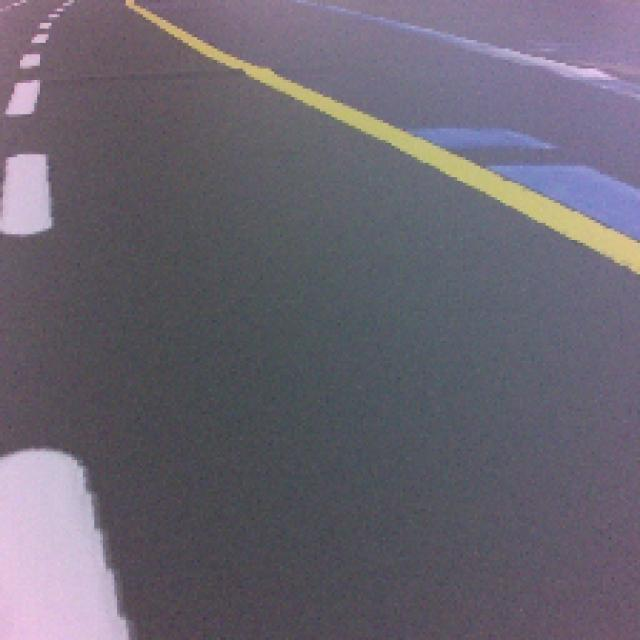Pedestrian crosswalk: (0, 449, 137, 640)
